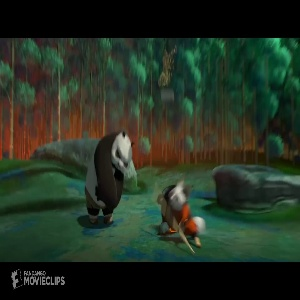po: (81, 128, 135, 227)
shifu: (167, 179, 209, 250)
